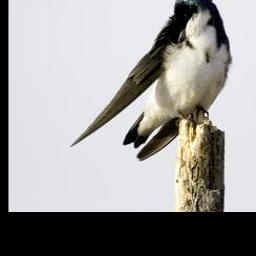Swallow: (70, 0, 235, 162)
